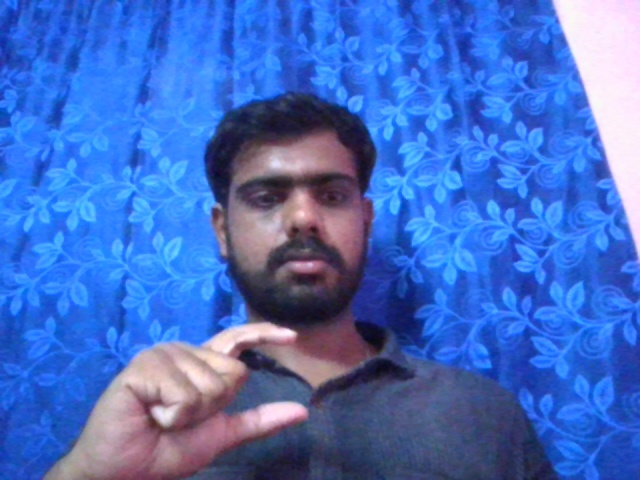No: (62, 309, 321, 470)
